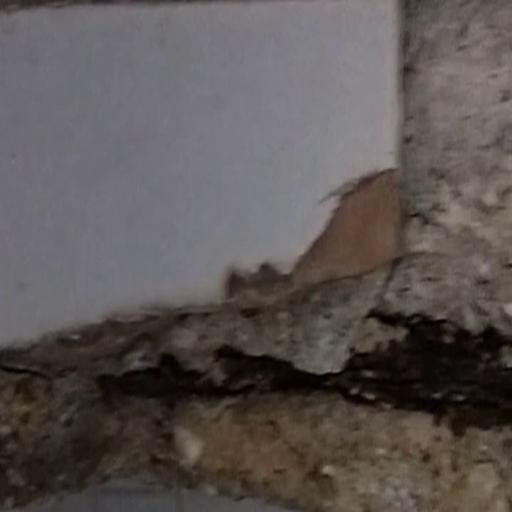spalling: (0, 199, 512, 512), (386, 0, 511, 251)
